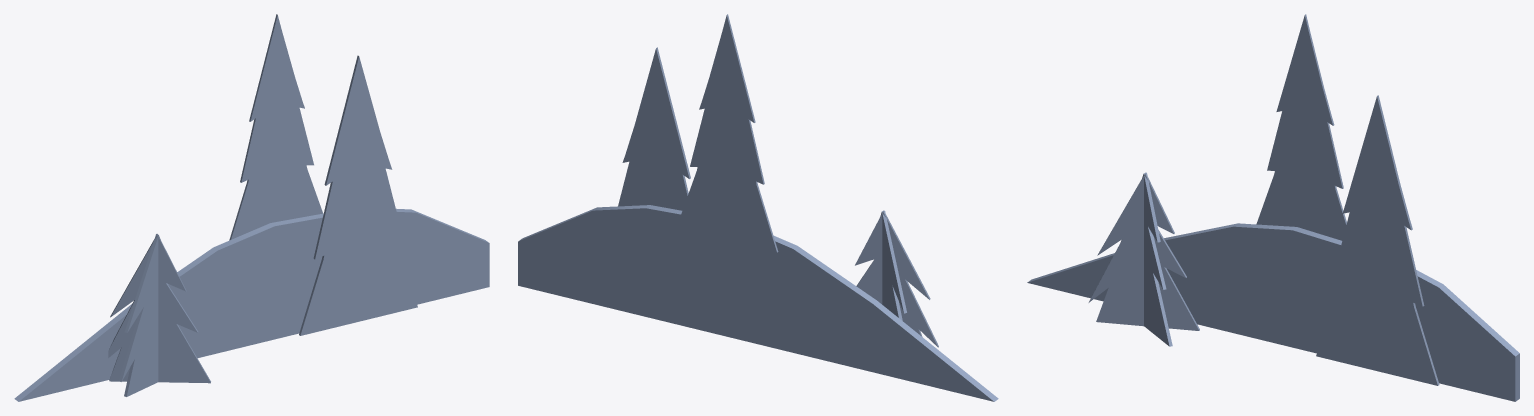
File: frame_0041.glb
3 renders of one model, left to right at view 1: azimuth 30°, elevation 25°; view 2: azimuth 150°, elevation 25°; view 3: azimuth 330°, elevation 25°, orthographic. The views are drawn at different scales.
Parts seen in each view (by area): view 1: export_trees_001.002; view 2: export_trees_001.002; view 3: export_trees_001.002.
Boxes of the visible parts, box(x1,y1,x2,y2) form: export_trees_001.002: box(14, 14, 489, 401); export_trees_001.002: box(518, 14, 998, 401); export_trees_001.002: box(1027, 14, 1519, 401).
Size of the model in its own units: 0.4075 by 0.2652 by 0.0496.
